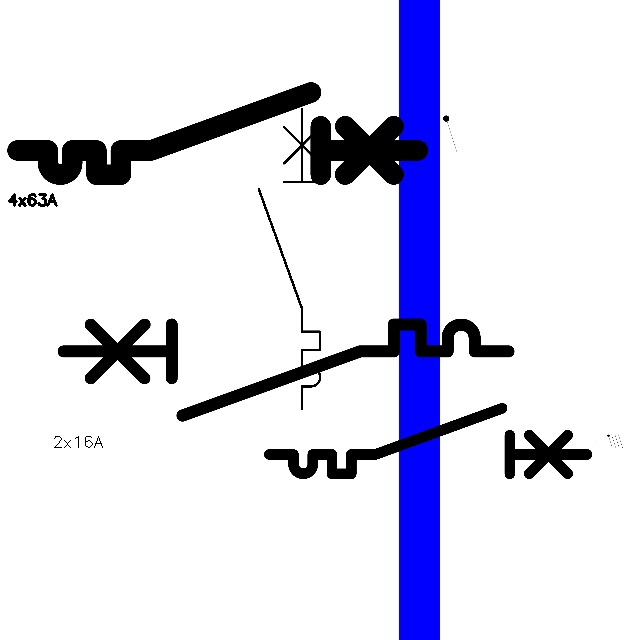interruptor_termomagnetico: (52, 313, 520, 427), (7, 82, 428, 185), (261, 400, 595, 482), (251, 101, 328, 417)
